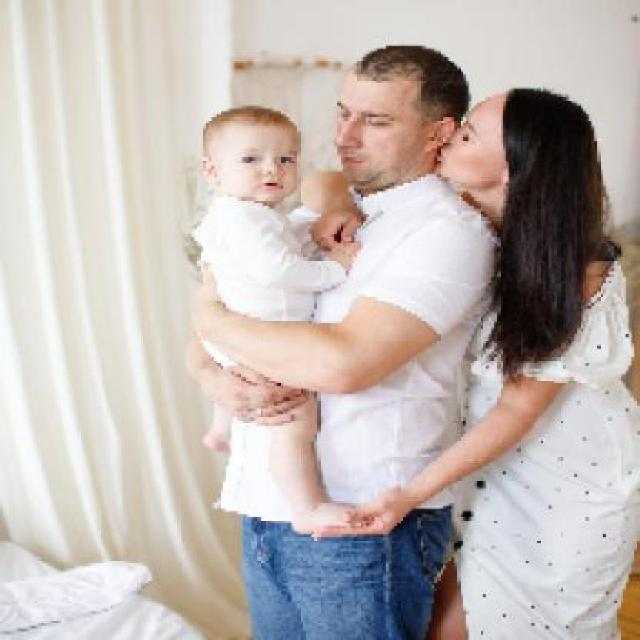child: (188, 104, 363, 533)
